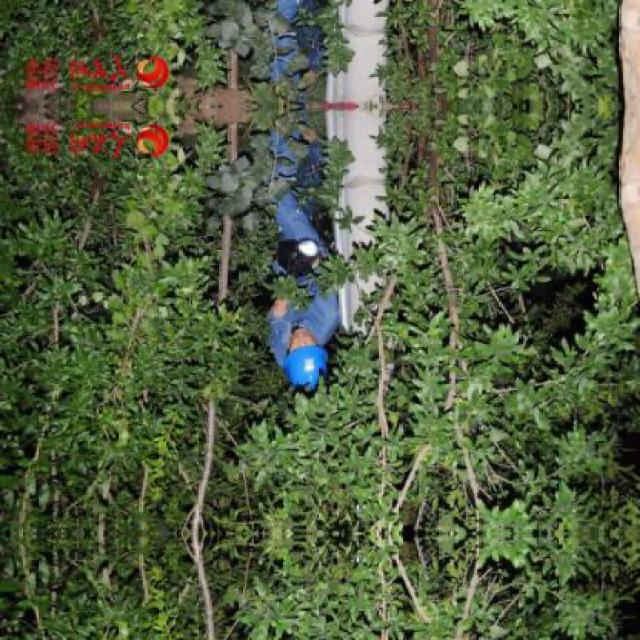con casco: (271, 320, 343, 406)
